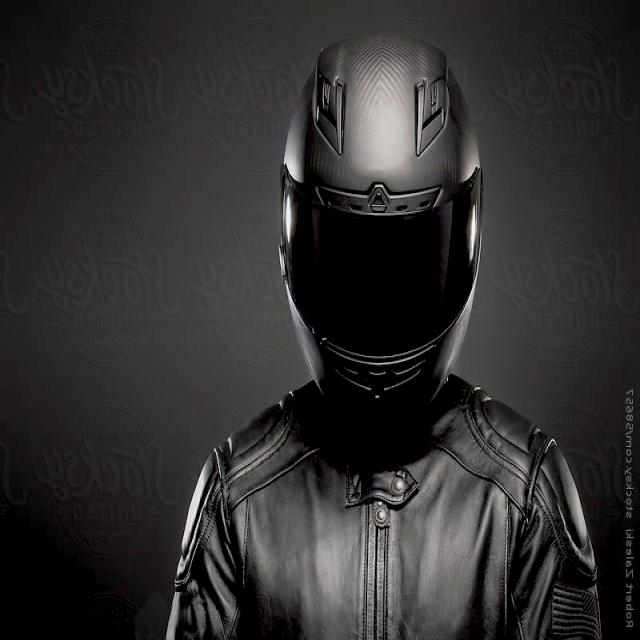helmet: (280, 37, 482, 403)
